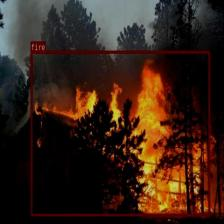fire: (30, 50, 210, 216)
